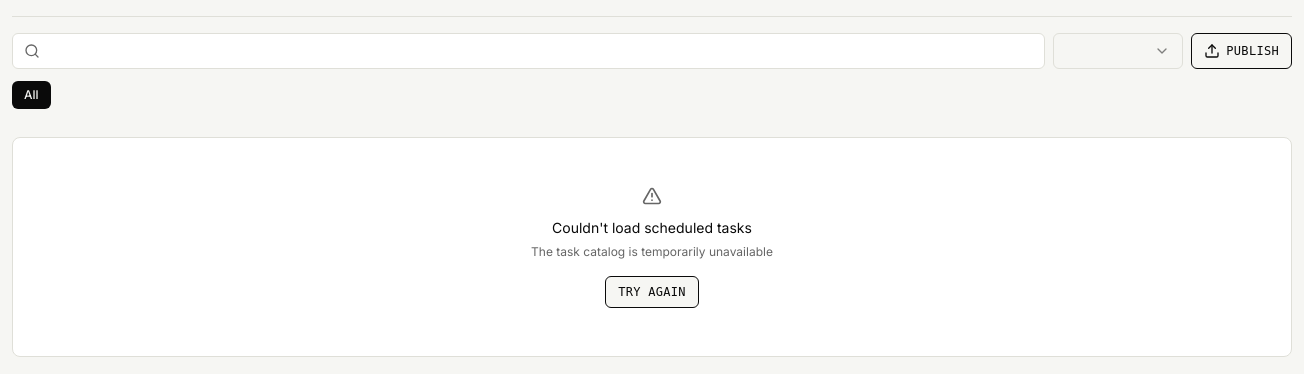
Scenario: pipe store error state › shows a retry instead of a false empty state, then recovers
Earlier steps of the test are not shown.
Expected: the text "Couldn't load scheduled tasks" is shown, [552, 219, 752, 236]
Step 1. Click the button "TRY AGAIN" → (652, 292), box [605, 276, 699, 308]
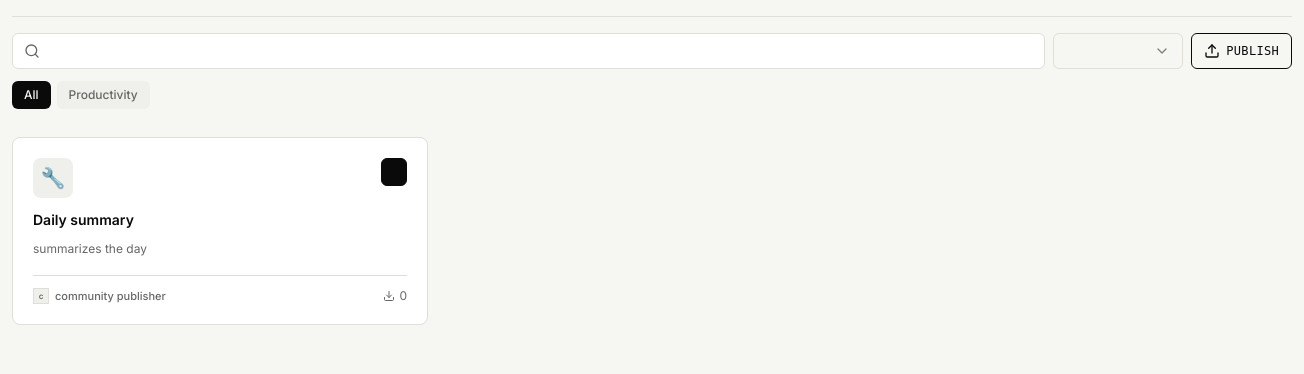
Now the heading "Daily summary" is shown, box [33, 211, 134, 228]
